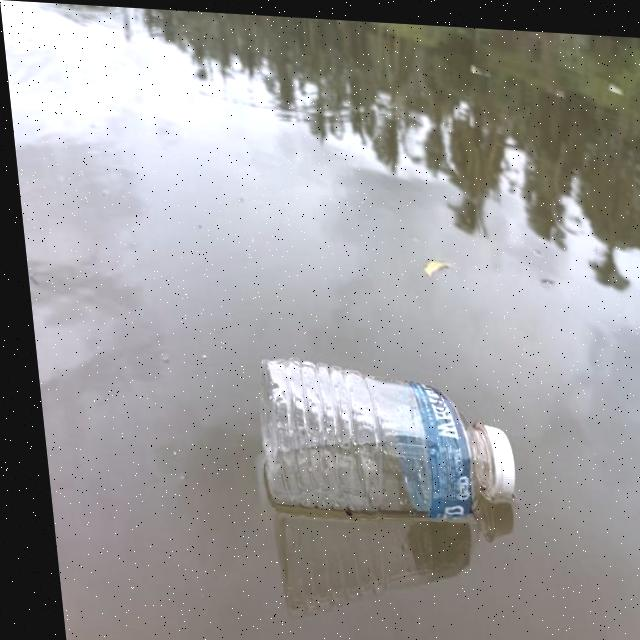waterbottle: (246, 347, 519, 570)
